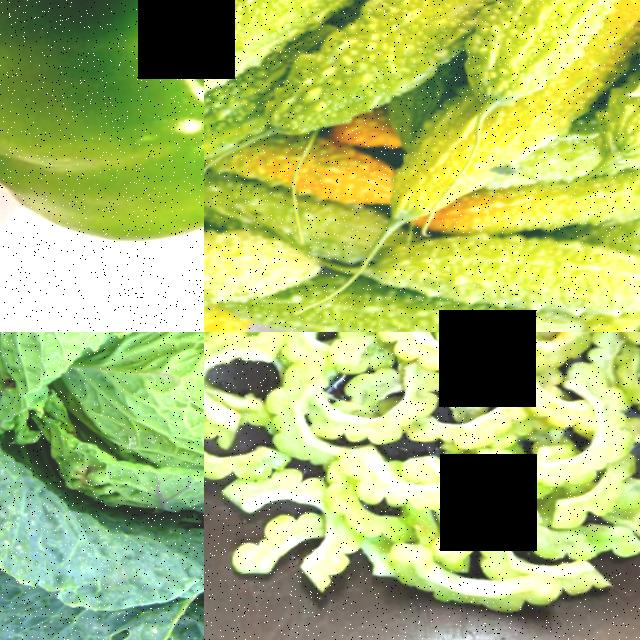bell pepper: (0, 0, 204, 292)
bitter gourd: (391, 212, 640, 320), (444, 0, 639, 118), (270, 8, 454, 131), (204, 203, 341, 312), (204, 0, 378, 38)
cabbage: (0, 332, 204, 636)
